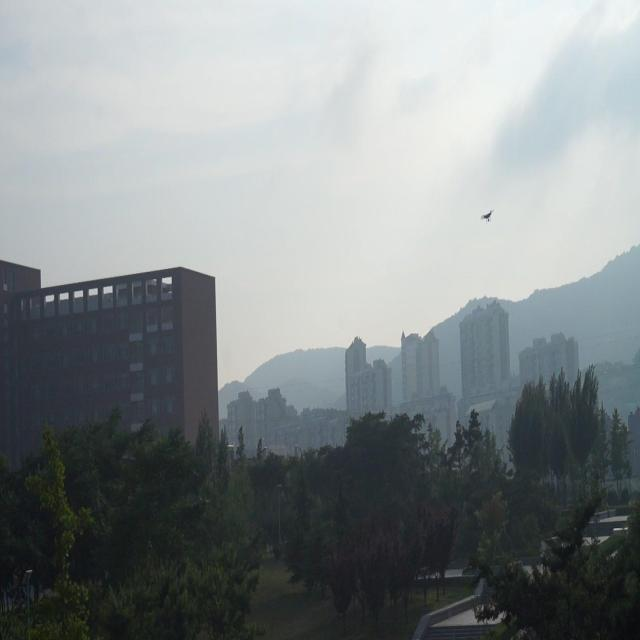drone: (480, 206, 495, 223)
